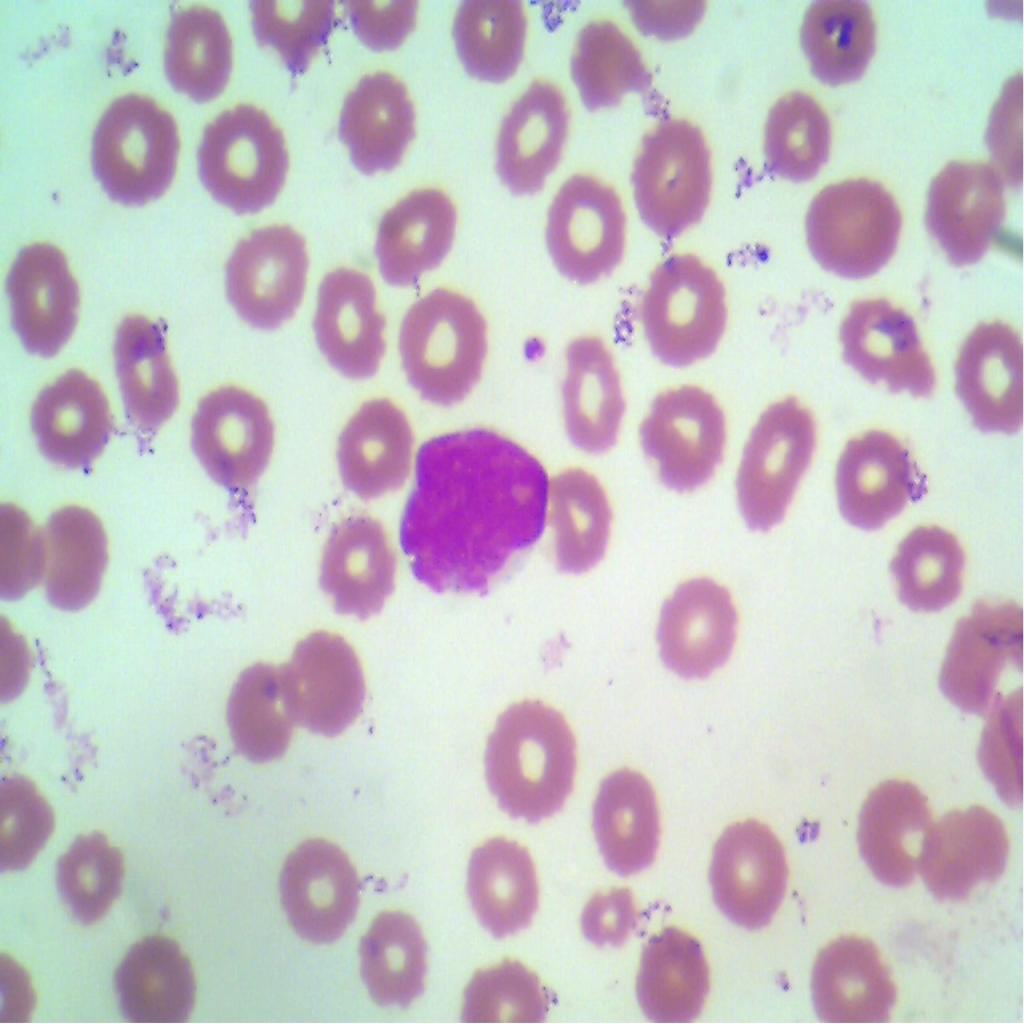Eritrosit: (81, 89, 188, 225), (790, 177, 916, 291), (723, 378, 816, 530), (186, 95, 300, 214), (474, 698, 578, 820), (640, 250, 738, 378), (393, 288, 495, 409), (622, 109, 722, 231), (211, 210, 313, 329), (634, 372, 731, 497), (876, 508, 984, 618), (278, 625, 376, 745), (839, 284, 935, 404), (708, 807, 791, 942), (766, 0, 888, 91), (30, 504, 126, 618), (806, 927, 919, 1023), (344, 908, 438, 1023), (24, 372, 124, 479), (946, 324, 1024, 461), (0, 235, 86, 358), (309, 504, 401, 618), (654, 578, 746, 691), (919, 798, 1011, 909), (301, 261, 388, 378), (912, 147, 998, 265), (110, 924, 210, 1023), (103, 310, 186, 429), (50, 826, 136, 940), (276, 826, 355, 950), (334, 65, 418, 181), (548, 164, 629, 284), (546, 458, 626, 577), (628, 918, 718, 1023), (373, 183, 463, 288), (844, 772, 931, 878), (458, 828, 541, 938), (590, 762, 673, 872), (183, 388, 274, 488), (834, 428, 922, 531), (564, 334, 635, 459), (491, 74, 566, 192), (936, 605, 1023, 704), (439, 0, 533, 91), (456, 947, 564, 1023), (155, 11, 235, 111), (226, 652, 292, 767), (566, 23, 653, 108), (338, 401, 416, 491), (0, 765, 58, 885), (760, 97, 830, 178), (572, 886, 638, 966)
Limfoblast: (398, 426, 550, 604)
Platelet: (515, 328, 554, 372)
